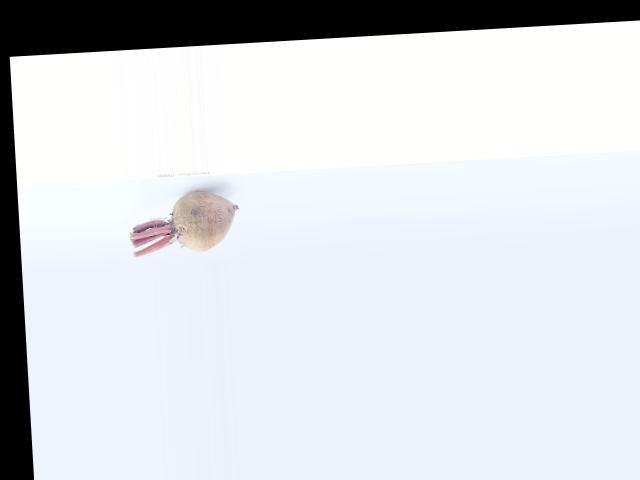beet: (129, 189, 239, 255)
